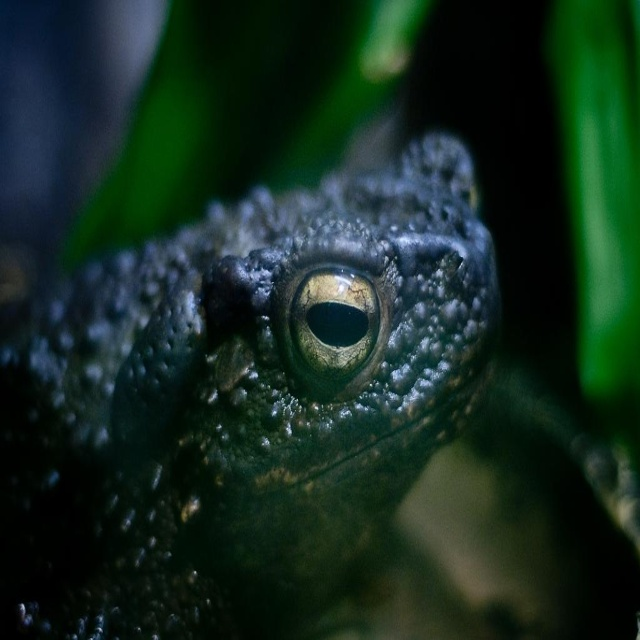Frog: (0, 130, 504, 639)
